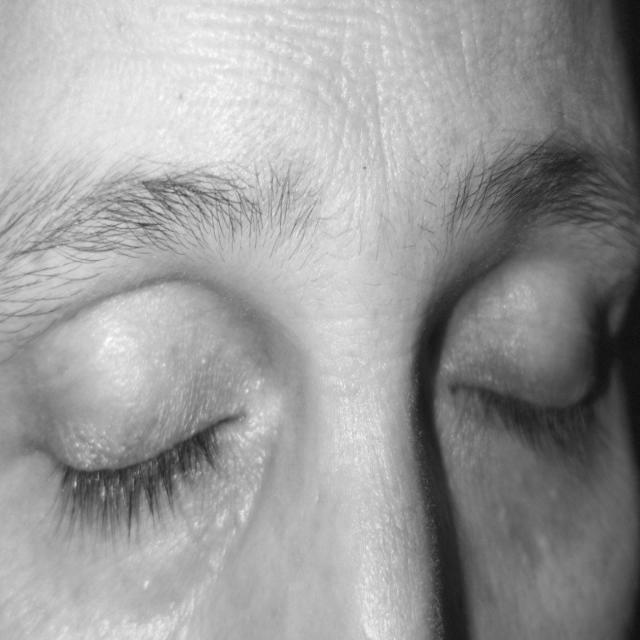real: (15, 235, 625, 538)
